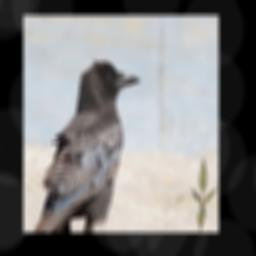Crow: (34, 59, 141, 232)
